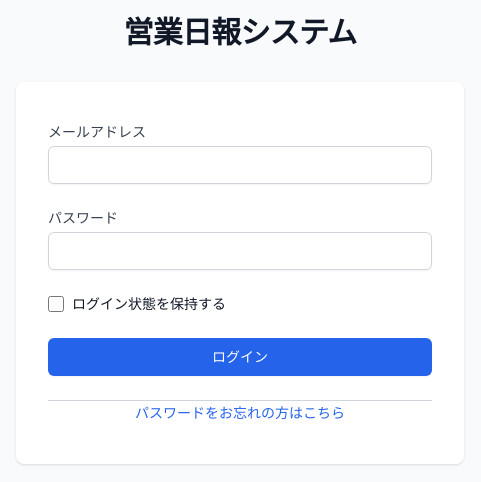
Scenario: LoginPage › ローディング中はボタンが無効化される
Type "yamada@example.com" into the field labelled "メールアドレス".
click(240, 165); type("yamada@example.com")  # box [48,146,432,184]
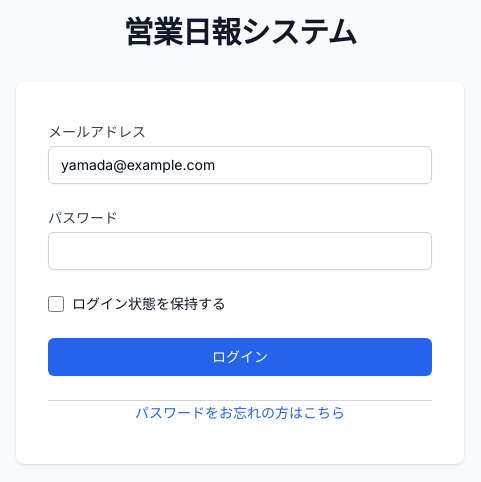
Type "password123" into the password field labelled "パスワード".
click(240, 251); type("password123")  # box [48,232,432,270]
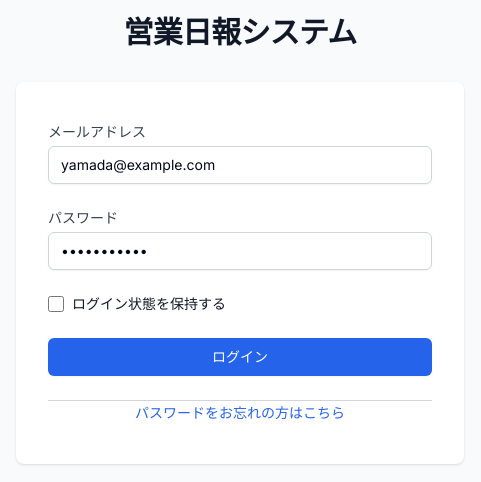
Click the button "ログイン".
click(240, 357)  # box [48,338,432,376]
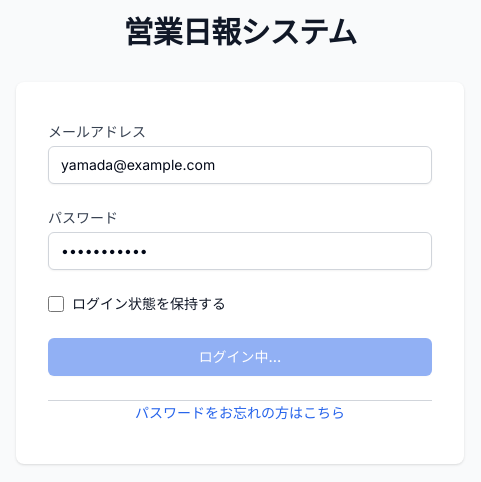
Check: the button "ログイン中..." is disabled, box [48,338,432,376]
